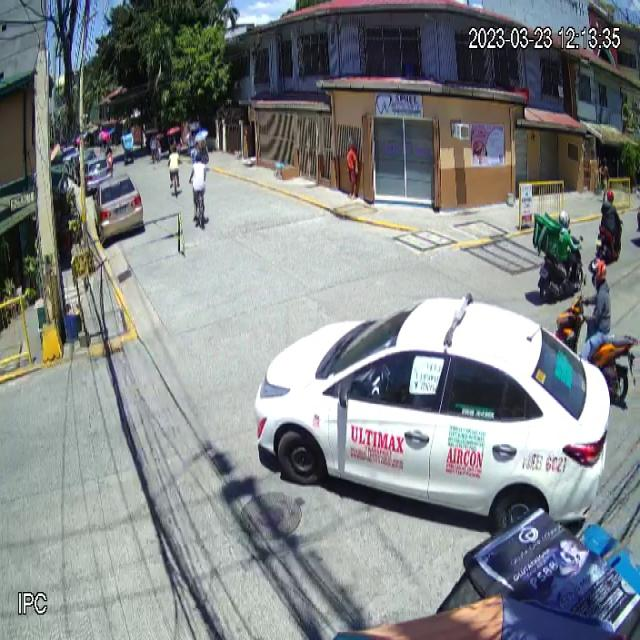Car: (253, 298, 611, 532), (93, 172, 143, 245)
Motorcycle: (556, 271, 638, 405), (537, 210, 585, 297)
